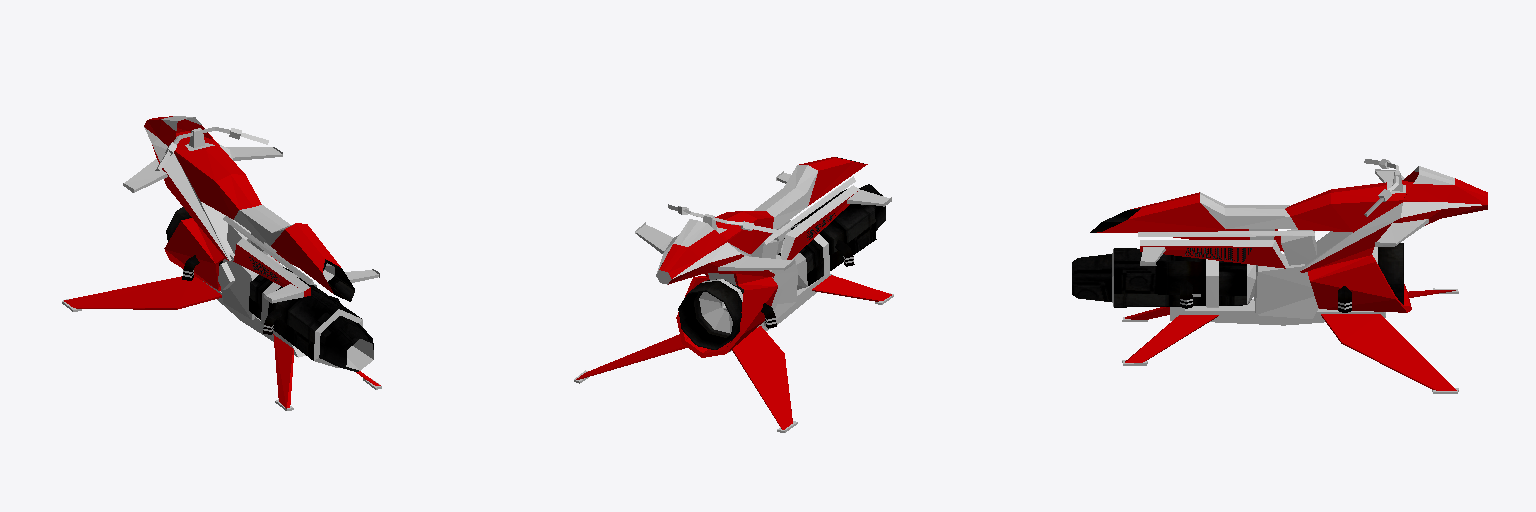
3 views of the same model, side by side, from view 1: azimuth 30°, elevation 25°; view 2: azimuth 150°, elevation 25°; view 3: azimuth 270°, elevation 25° (orthographic).
Visible parts, largest first — view 1: oppressor_Geometry.064; view 2: oppressor_Geometry.064; view 3: oppressor_Geometry.064.
Part boxes in pixels (x1,y1,x2,y2): oppressor_Geometry.064: (62, 116, 381, 410); oppressor_Geometry.064: (574, 157, 893, 432); oppressor_Geometry.064: (1072, 159, 1487, 393).
Bounding box in the file's own units: 1.3 × 1.01 × 2.21.
13 materials, 2 textured.